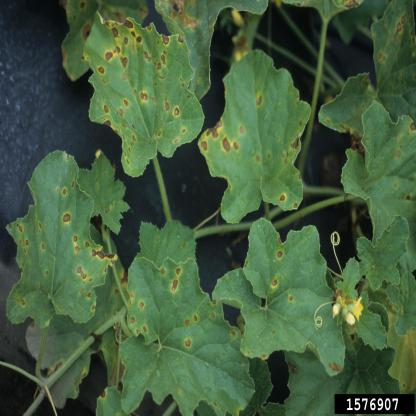AlternariaBrassicicola: (119, 17, 146, 45), (14, 210, 31, 253), (35, 210, 49, 255), (205, 115, 223, 139), (183, 311, 202, 330), (154, 51, 171, 72), (102, 46, 126, 60), (75, 263, 90, 285), (117, 97, 131, 116), (221, 132, 232, 156), (61, 208, 74, 226), (137, 86, 151, 102), (254, 89, 265, 109), (268, 274, 280, 292), (198, 138, 211, 154), (72, 234, 82, 254), (162, 94, 171, 116), (142, 49, 154, 65), (277, 189, 288, 206), (172, 103, 182, 121), (232, 137, 242, 154), (275, 248, 286, 263), (175, 262, 185, 278), (170, 276, 180, 292), (182, 338, 194, 351), (162, 31, 172, 46), (58, 186, 70, 198), (96, 64, 107, 77), (238, 121, 247, 136), (159, 264, 167, 280), (137, 298, 146, 312), (103, 103, 111, 115)
